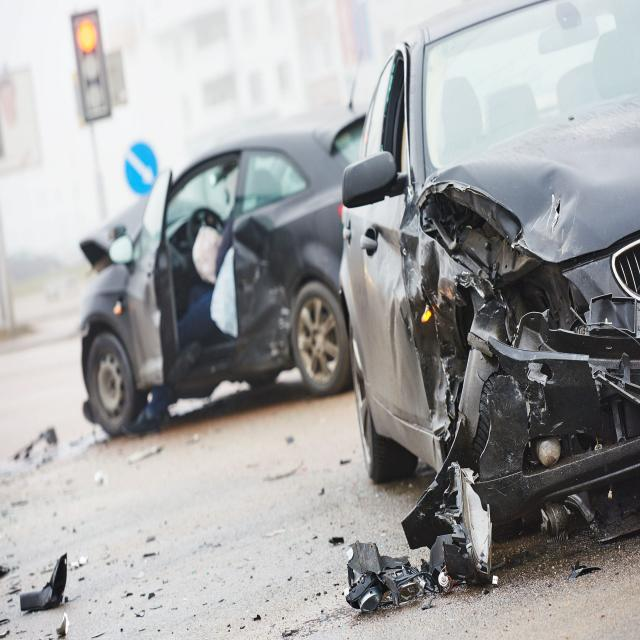accident: (354, 61, 640, 597)
